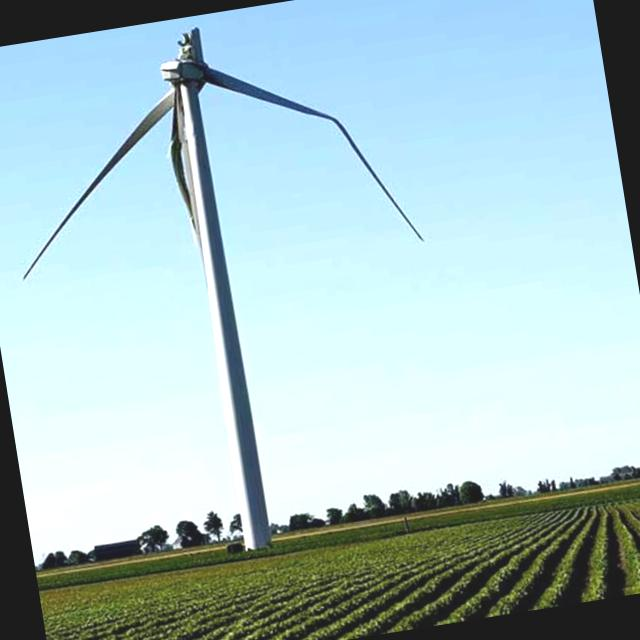crack: (128, 18, 244, 264), (298, 85, 427, 262)
